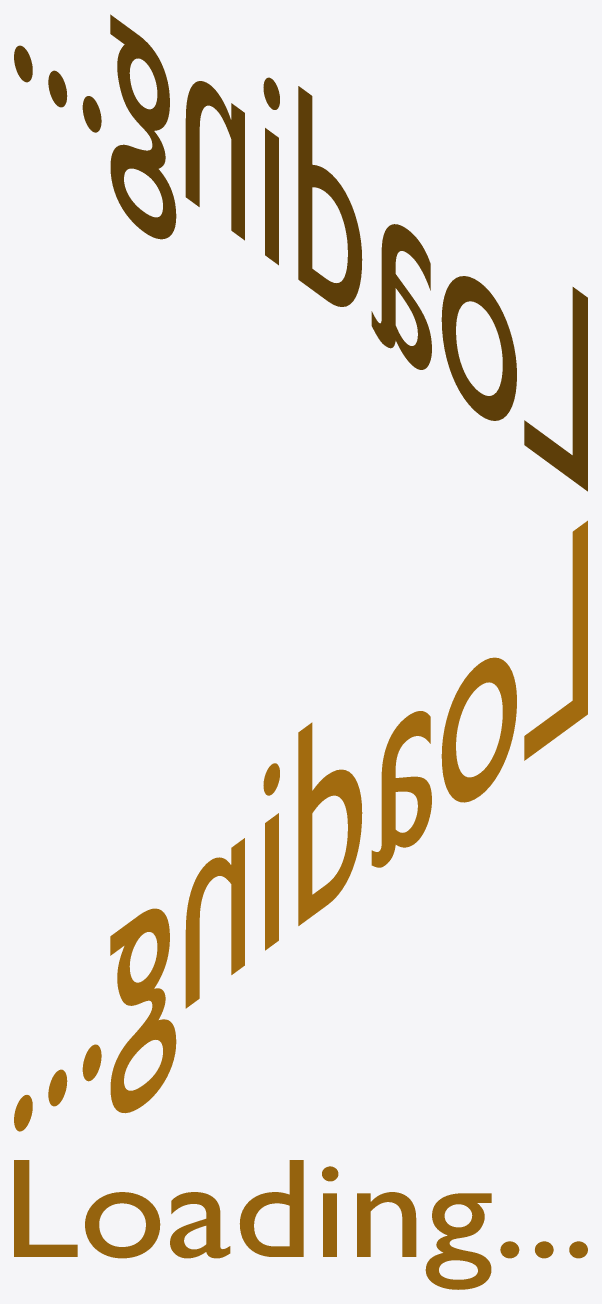
File: defaultModel.glb
The picture shows the model from 3 angles, top to bottom: view 1: azimuth 30°, elevation 25°; view 2: azimuth 150°, elevation 25°; view 3: azimuth 270°, elevation 25°; orthographic projection. The views are drawn at different scales.
Parts seen in each view (by area): view 1: Text; view 2: Text; view 3: Text.
Boxes of the visible parts, x1,y1,x2,y2 form: Text: (14,14,587,491); Text: (14,520,587,1131); Text: (14,1160,587,1289).
Size of the model in its own units: 0 by 0.1805 by 0.7242.
